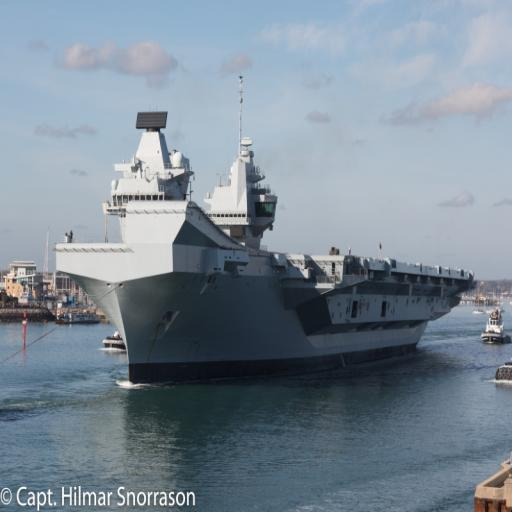Portanaves: (54, 71, 482, 391)
